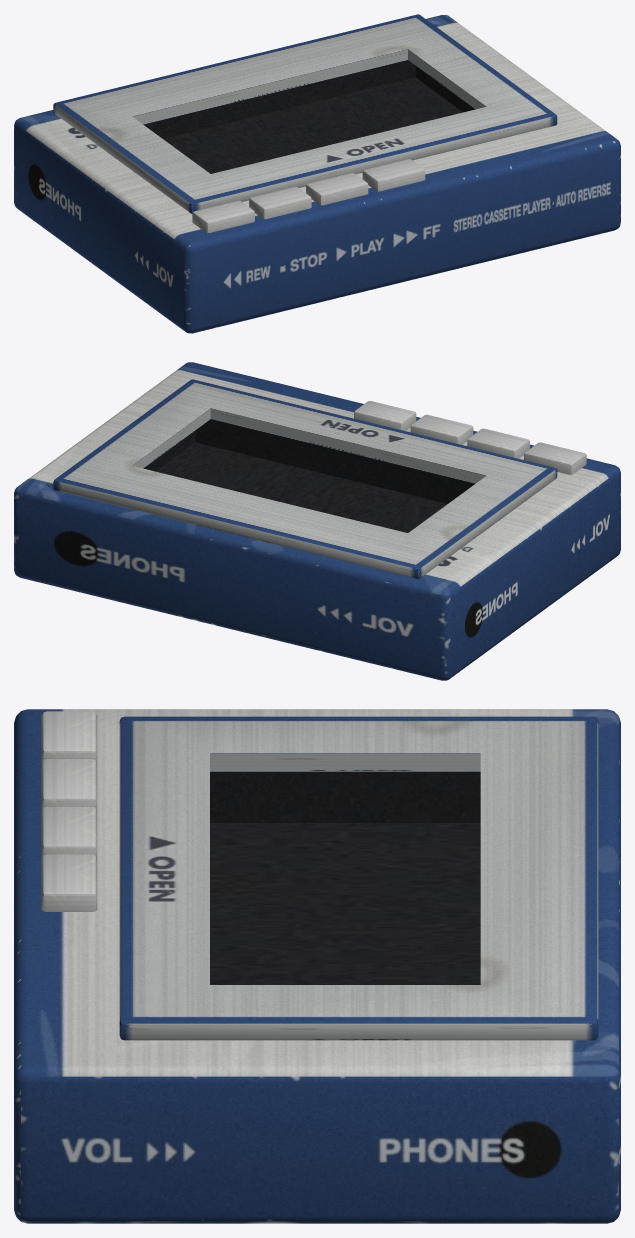
File: walkman.glb
3 views of the same model, one above another, from view 1: azimuth 30°, elevation 25°; view 2: azimuth 150°, elevation 25°; view 3: azimuth 270°, elevation 25° (orthographic). The views are drawn at different scales.
Visible parts, largest first — view 1: body, part_00, part_02, part_01; view 2: body, part_00, part_01, part_02; view 3: body, part_00, part_01, part_02.
Boxes of the visible parts, x1,y1,x2,y2 form: body: (14,15,620,333); part_00: (53,14,557,213); part_02: (249,186,311,219); part_01: (306,173,368,205); body: (14,362,620,680); part_00: (53,379,557,578); part_01: (410,414,473,444); part_02: (467,428,529,458); body: (14,709,620,1223); part_00: (119,716,598,1040); part_01: (41,806,97,858); part_02: (41,759,97,810).
Bounding box in the file's own units: 2.5 × 0.56 × 1.75.
1 material, 1 textured.
